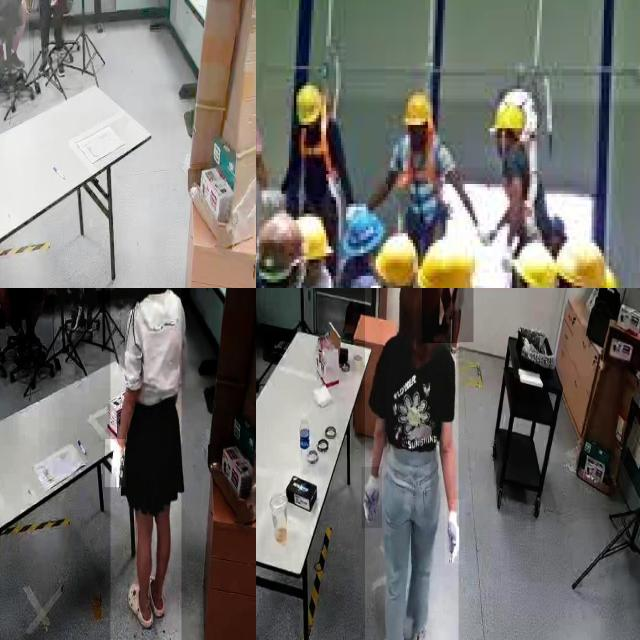Harness: (292, 123, 350, 254), (392, 136, 452, 247)
hand_glove: (445, 500, 465, 566), (362, 467, 382, 529), (105, 439, 126, 488)
hand_noglove: (39, 288, 48, 301), (78, 288, 85, 298), (49, 0, 58, 5)
person: (365, 288, 459, 640), (110, 288, 181, 640), (422, 288, 474, 343), (38, 0, 74, 68), (54, 288, 97, 340), (0, 0, 29, 74), (0, 288, 28, 350)
shoes: (4, 42, 26, 75), (407, 624, 430, 640), (387, 628, 408, 640)
